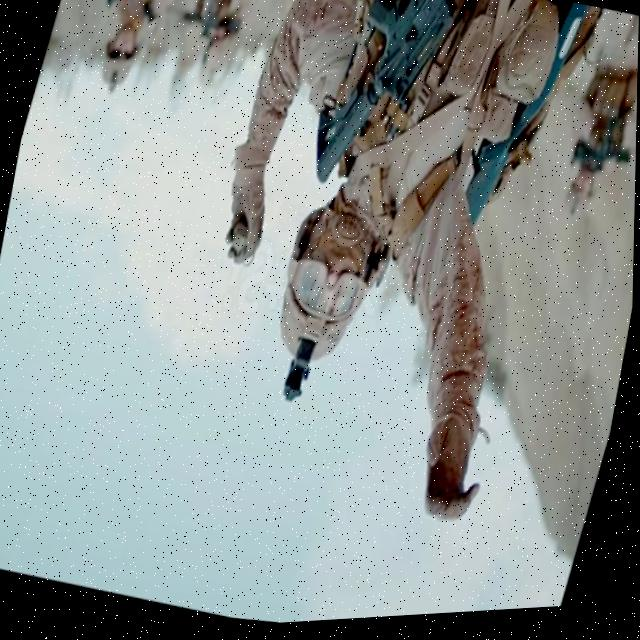grenade: (221, 221, 268, 278)
